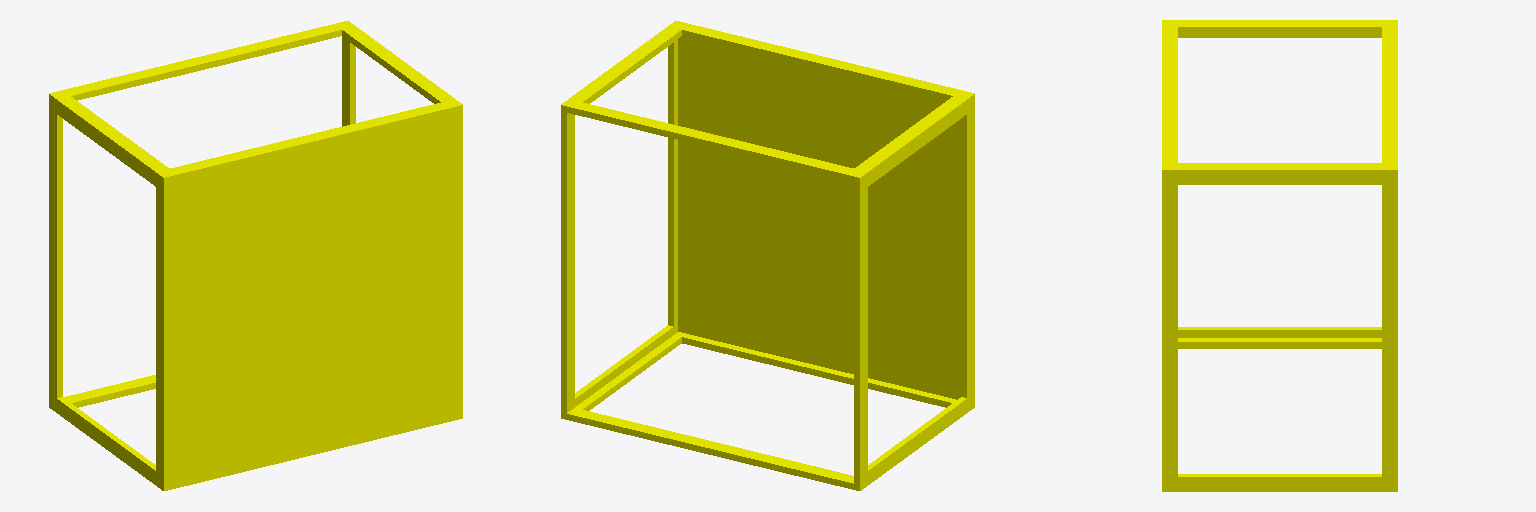
robot.urdf — tank1:
<?xml version="1.0" encoding="utf-8"?>
<!-- This URDF was automatically created by SolidWorks to URDF Exporter! Originally created by [author] ([email redacted]) 
     Commit Version: 1.6.0-4-g7f85cfe  Build Version: 1.6.7995.38578
     For more information, please see http://wiki.ros.org/sw_urdf_exporter -->
<robot
  name="tank1">
  <link
    name="tank1">
    <inertial>
      <origin
        xyz="1.93965165620642E-17 2.53232299560282E-17 0.0192936003908158"
        rpy="0 0 0" />
      <mass
        value="0.0982559999999999" />
      <inertia
        ixx="0.000369966986215925"
        ixy="1.7205356741103E-19"
        ixz="-3.11517803544511E-19"
        iyy="0.000369966986215925"
        iyz="-7.18997769874164E-20"
        izz="0.000511478175999999" />
    </inertial>
    <visual>
      <origin
        xyz="0 0 0"
        rpy="-1.57079 0 0" />
      <geometry>
        <mesh
          filename="meshes/tank1.STL" scale="2 2 2"/>
      </geometry>
      <material
        name="tank1">
        <color
          rgba="1 1 0 1" />
      </material>
    </visual>
    <collision>
      <origin
        xyz="0 0 0"
        rpy="0 0 0" />
      <geometry>
        <mesh
          filename="meshes/tank1.STL" scale="2 2 2"/>
      </geometry>
    </collision>
  </link>
</robot>

--- Render facts (derived) ---
3 views of the same robot in one strip: view 1: azimuth 30°, elevation 25°; view 2: azimuth 150°, elevation 25°; view 3: azimuth 270°, elevation 25° (orthographic).
Robot: tank1 — 1 links, 0 joints (none); root link tank1; default pose: all joints at 0.
Links seen in each view (by area): view 1: tank1; view 2: tank1; view 3: tank1.
Boxes of the visible links, x1,y1,x2,y2 form: tank1: [49, 21, 462, 490]; tank1: [561, 21, 974, 490]; tank1: [1162, 20, 1397, 491].
Bounding box of the posed robot: 0.3 × 0.2 × 0.3 m (x, y, z).
1 mesh visuals loaded from 1 distinct referenced files (1 binary STL).